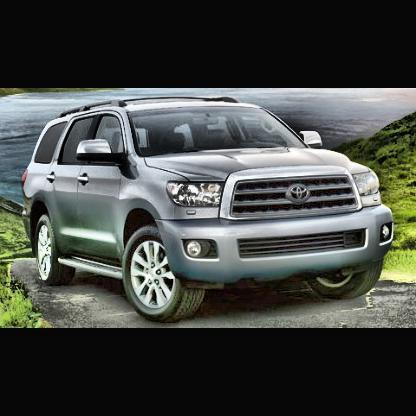Toyota Sequoia SUV 2012: (24, 99, 397, 324)
